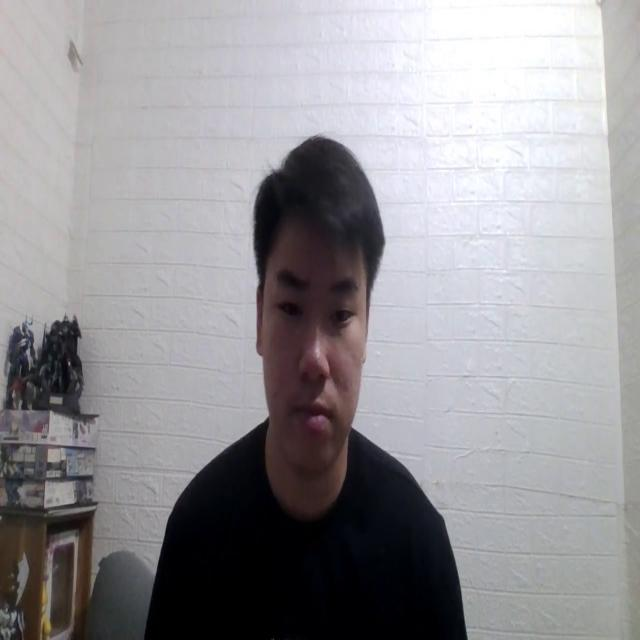student: (145, 126, 472, 640)
